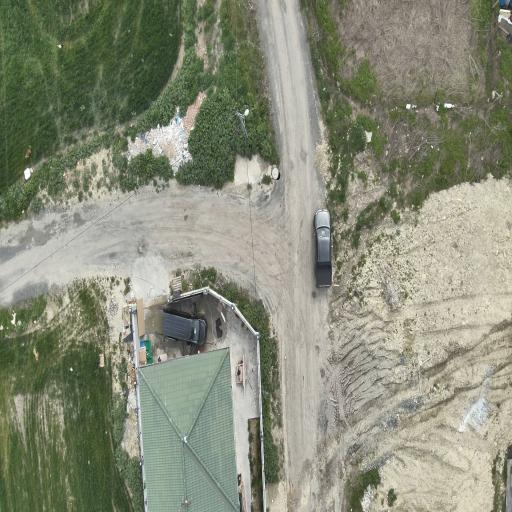car: (163, 311, 207, 345), (314, 210, 332, 287)
